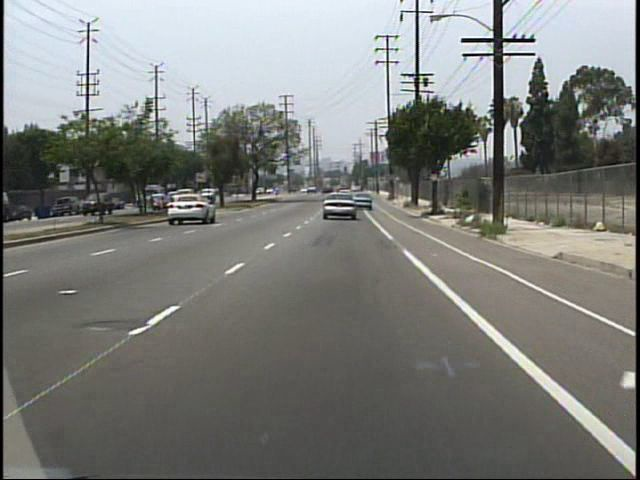person: (95, 192, 104, 212)
